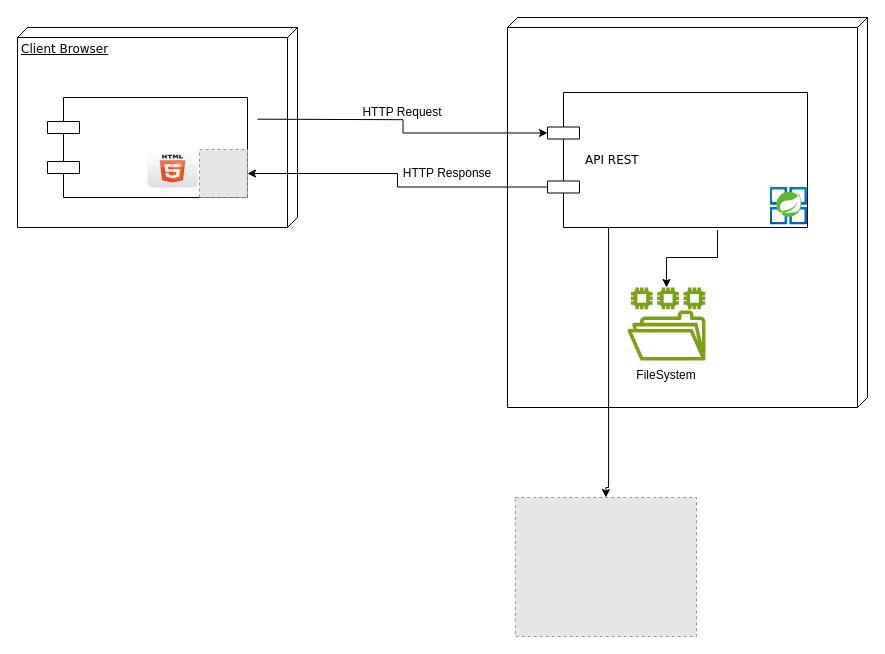
Some shapes in this 885 by 654 pixel diagram are drawn without their labels. Grey dashed boxes stand in for pictures. The shapes that lost their labels are listed below. From the top down, each one's box as (x1, y1, x2, y2) in pixels, then its label:
(46, 96, 248, 198): WEB
(506, 16, 868, 408): Backend
